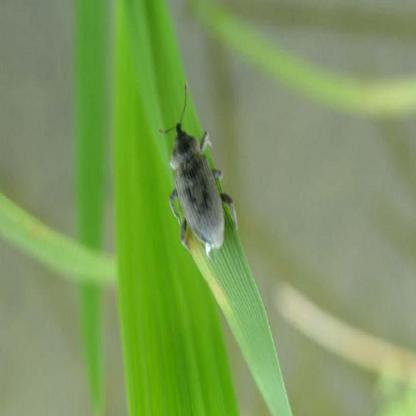rice-bug: (171, 115, 229, 254)
